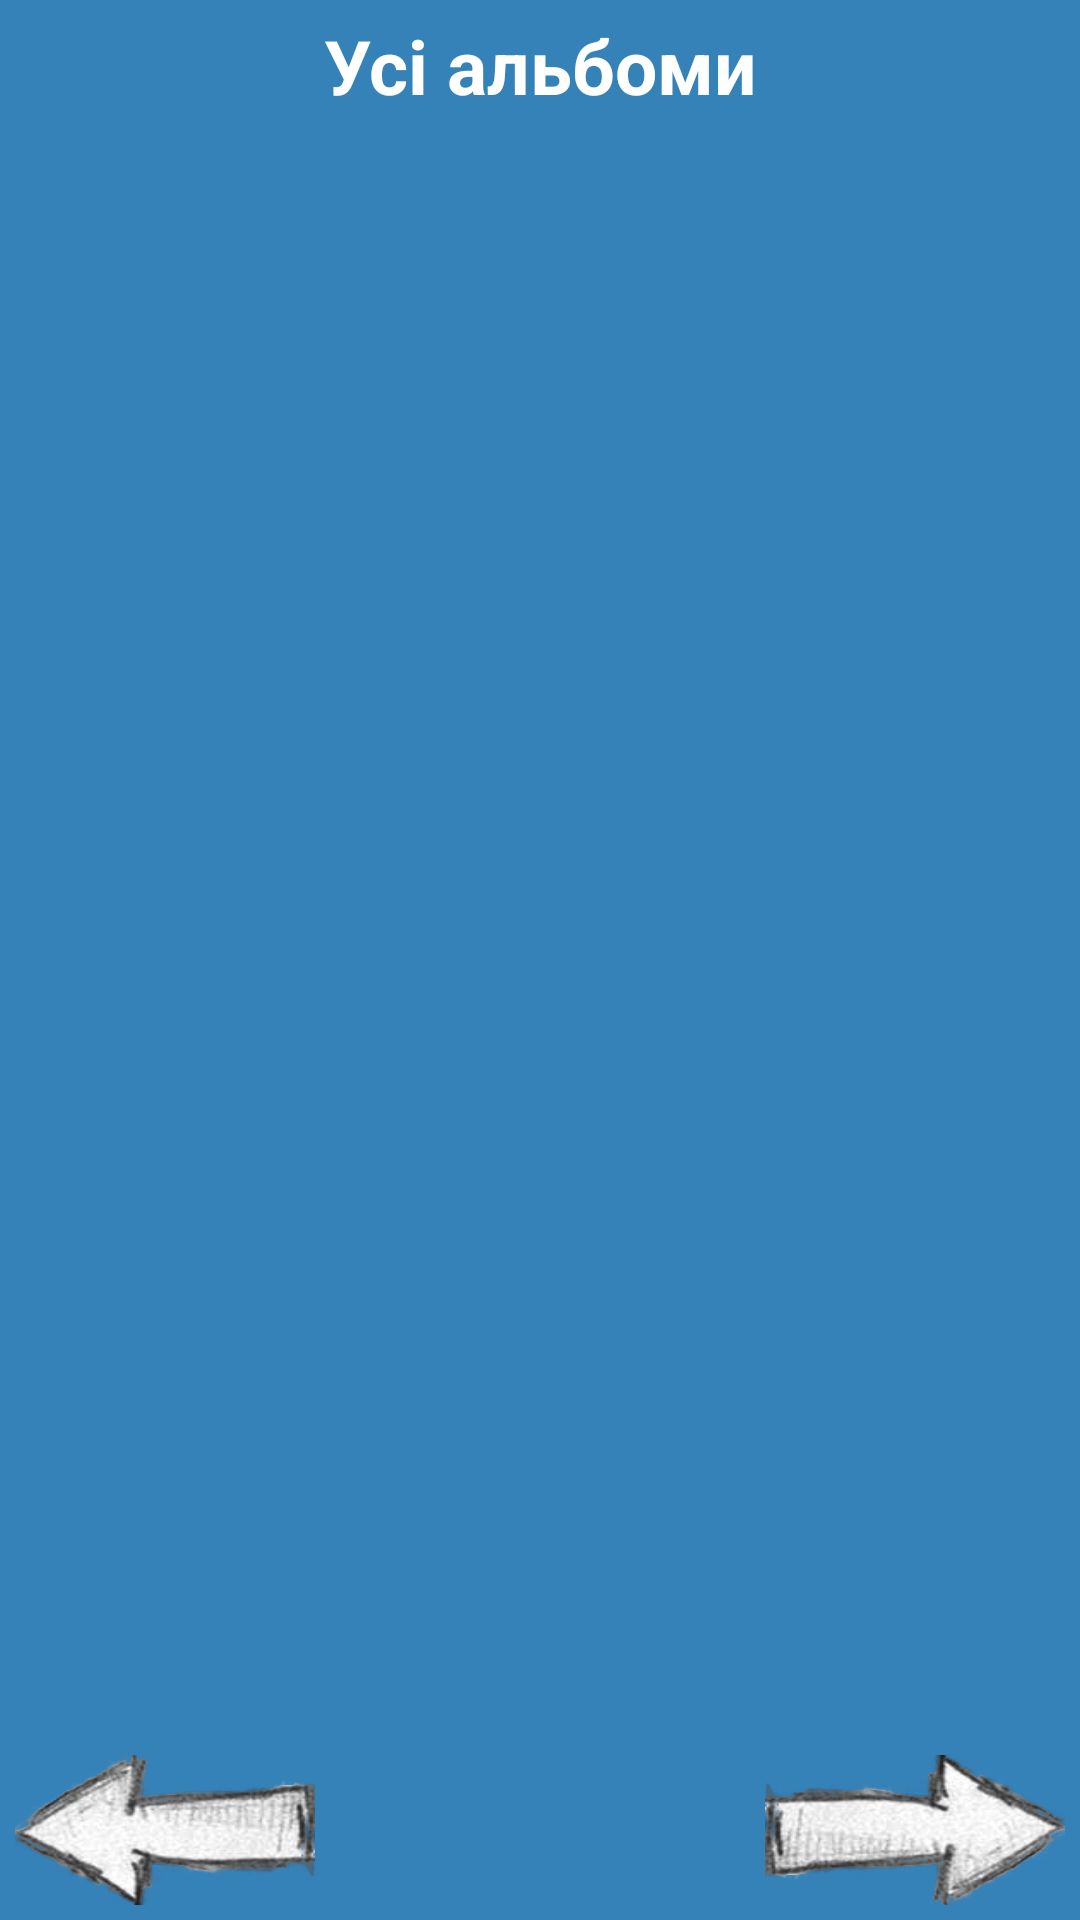

Where to tap for icons on this 1080w x 1920h app screen, as point (x, y):
back: point (165, 1830)
forward: point (915, 1830)
